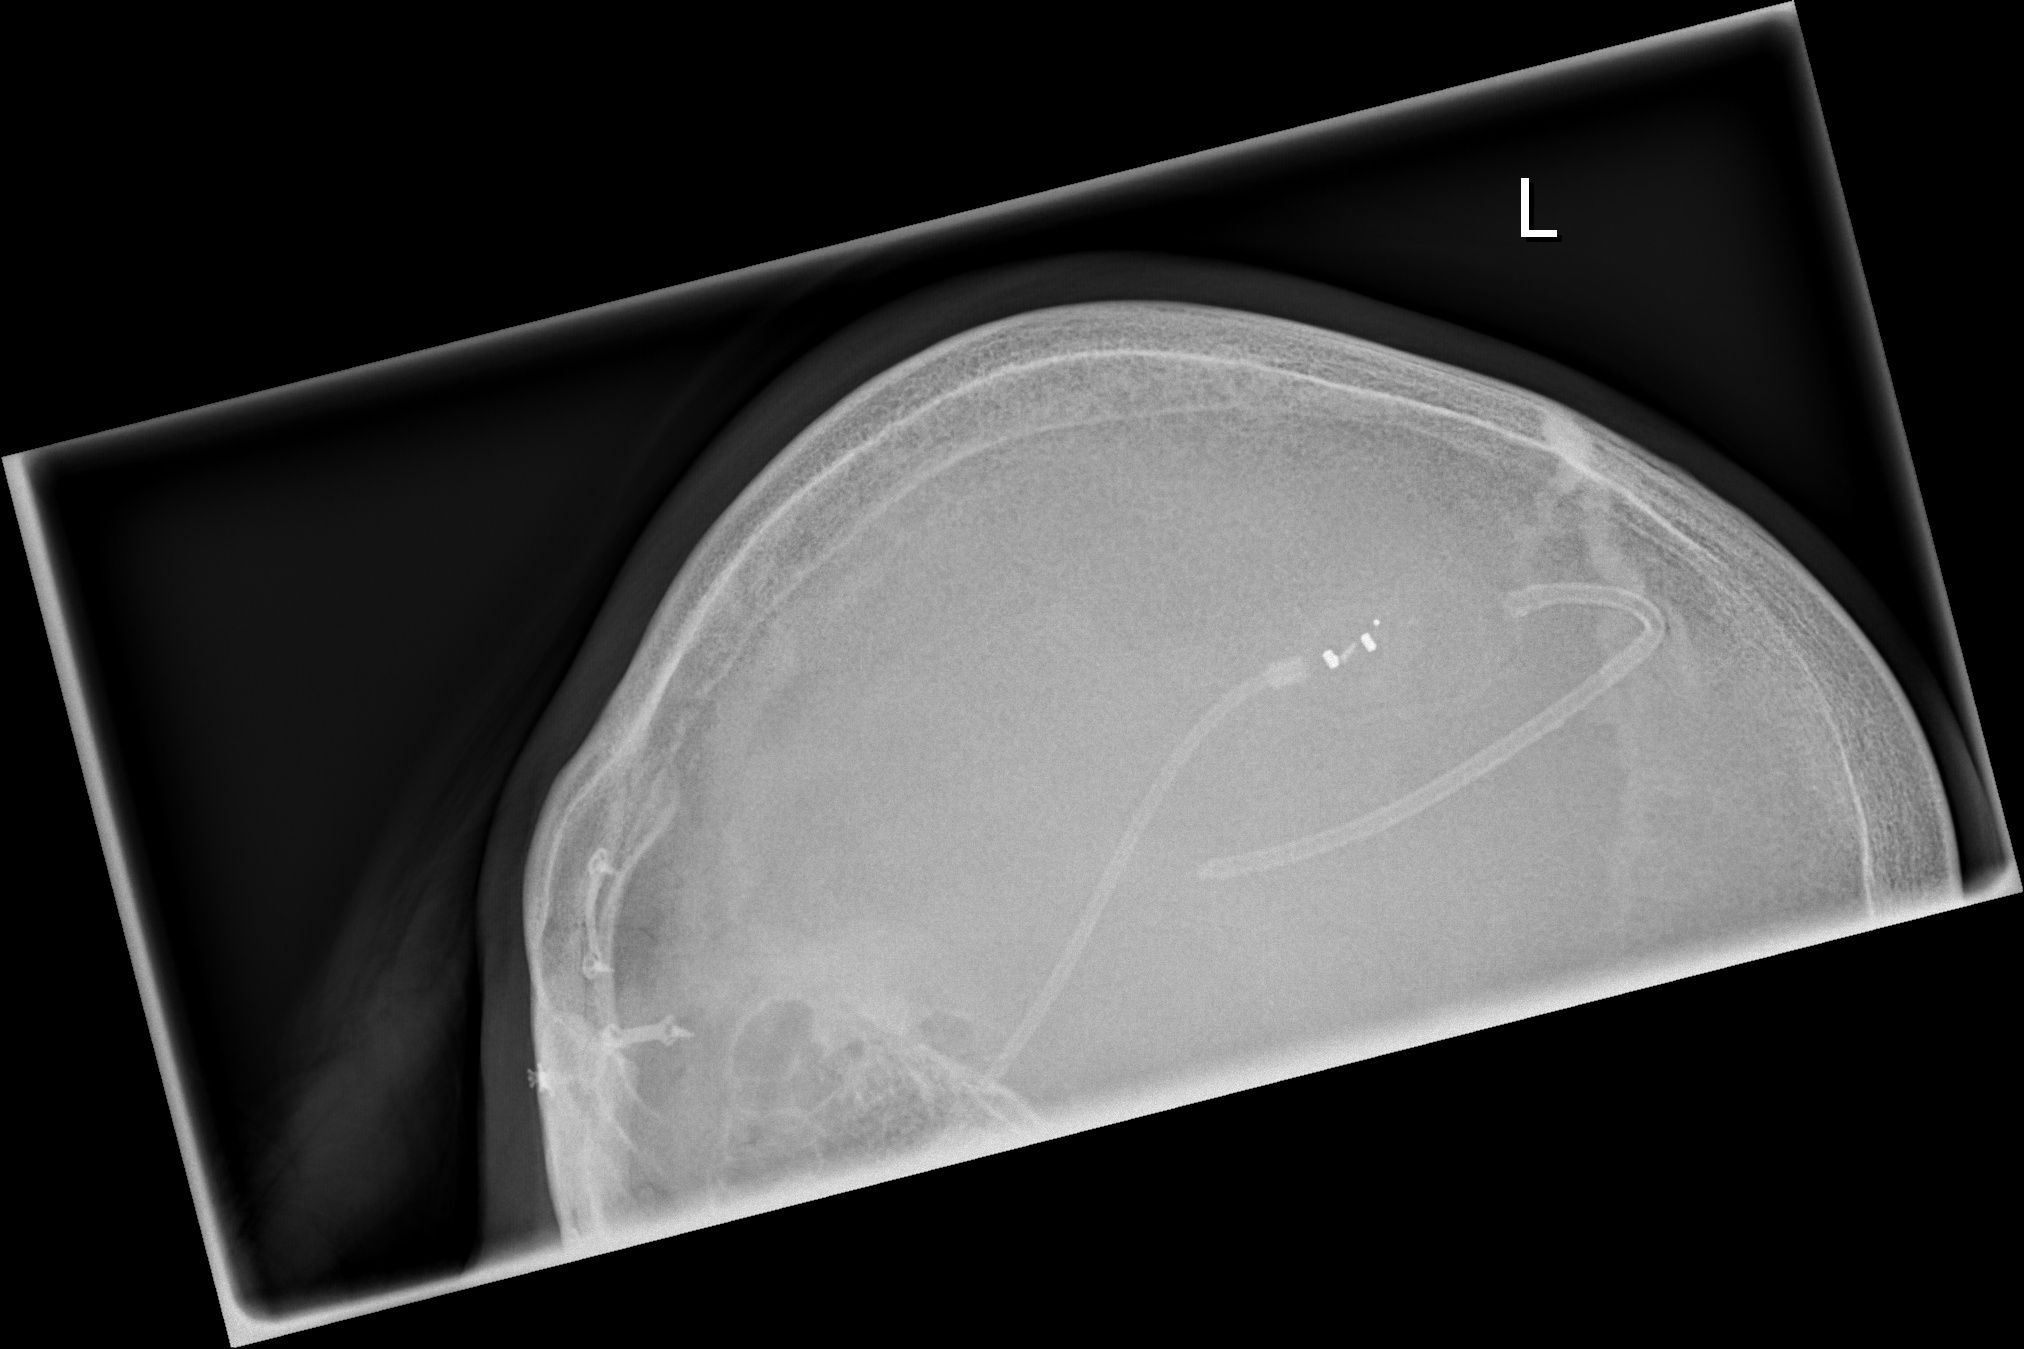Codman Certas: (1303, 595, 1404, 699)
